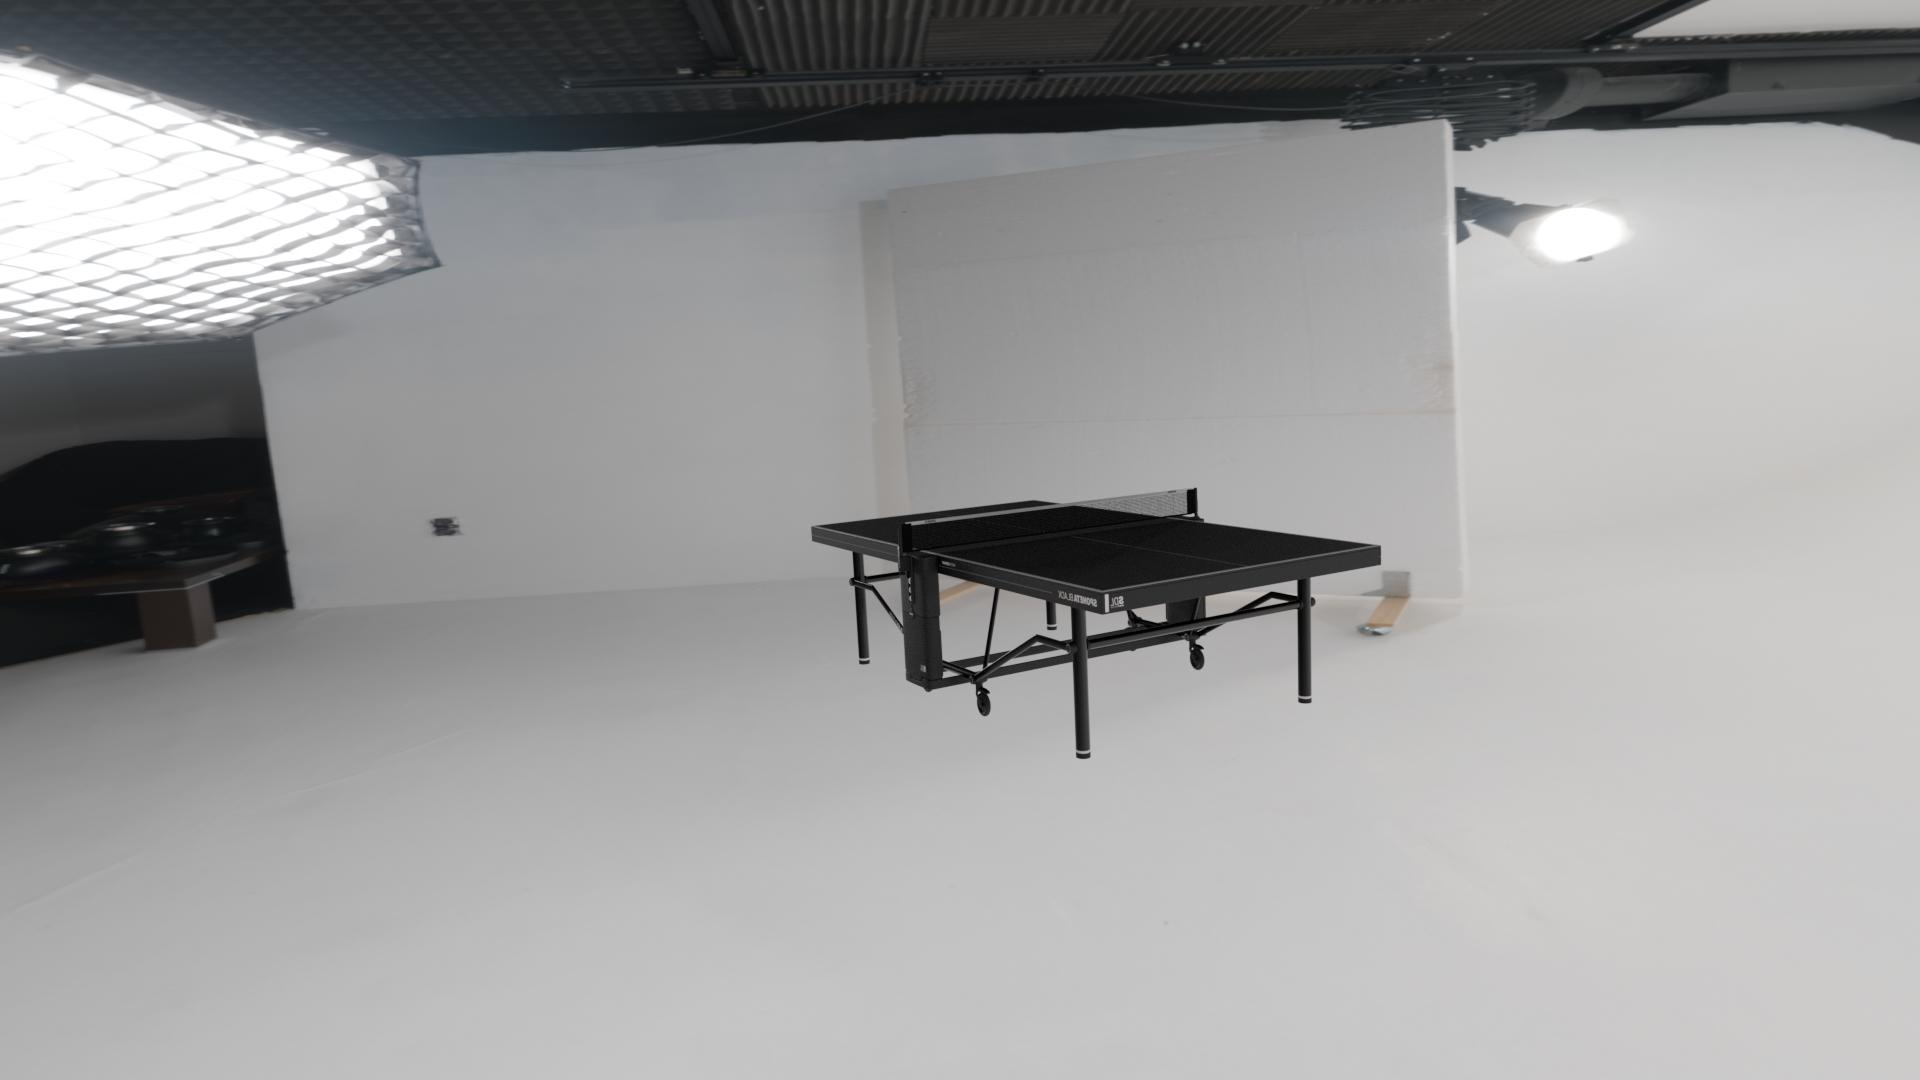table: (815, 500, 1374, 591)
